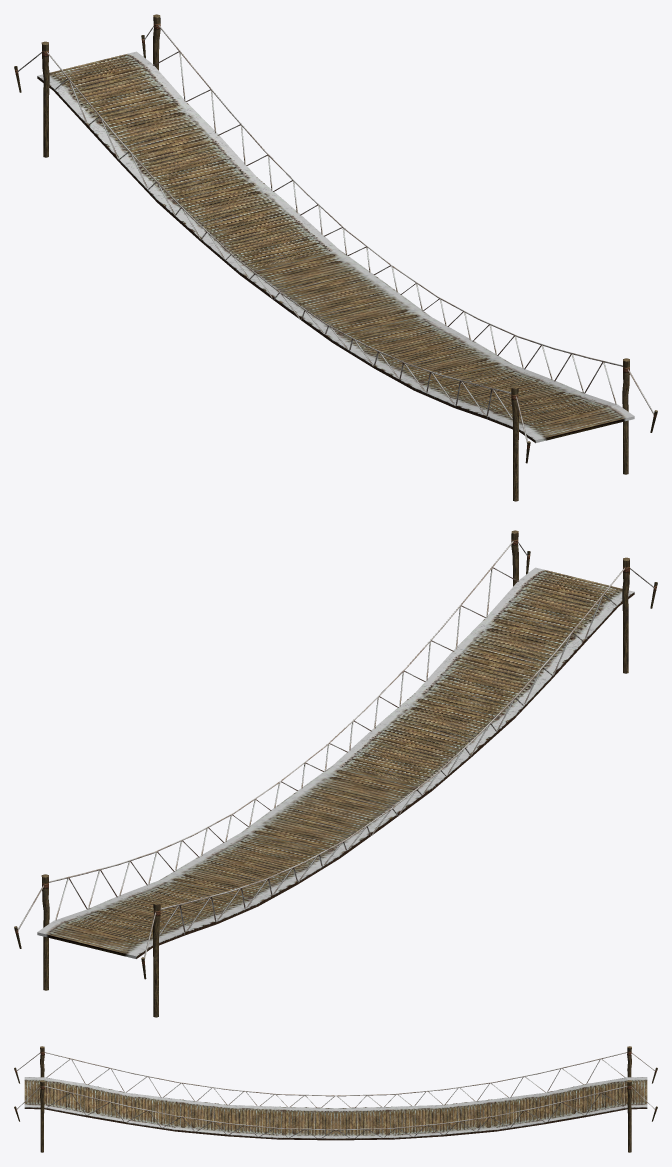
Rendered from general_obj_suspension bridge01.fbx.
3 renders of one model, top to bottom at view 1: azimuth 30°, elevation 25°; view 2: azimuth 150°, elevation 25°; view 3: azimuth 270°, elevation 25°, orthographic. The views are drawn at different scales.
Parts seen in each view (by area): view 1: Sphere01; view 2: Sphere01; view 3: Sphere01.
Part boxes in pixels (x1,y1,x2,y2): Sphere01: (14,14,657,501); Sphere01: (14,530,657,1017); Sphere01: (14,1046,657,1152).
Size of the model in its own units: 10.46 by 8.8 by 71.77.
